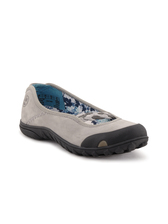shoes: (16, 80, 148, 155)
